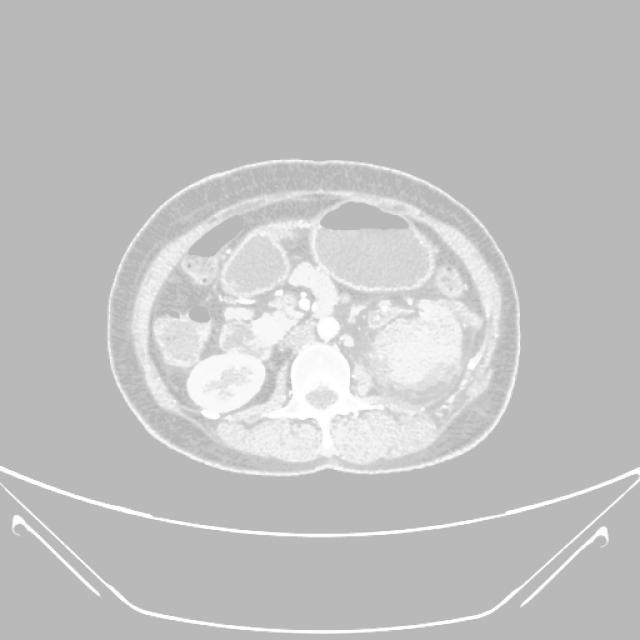TUMOR: (95, 175, 424, 369)
